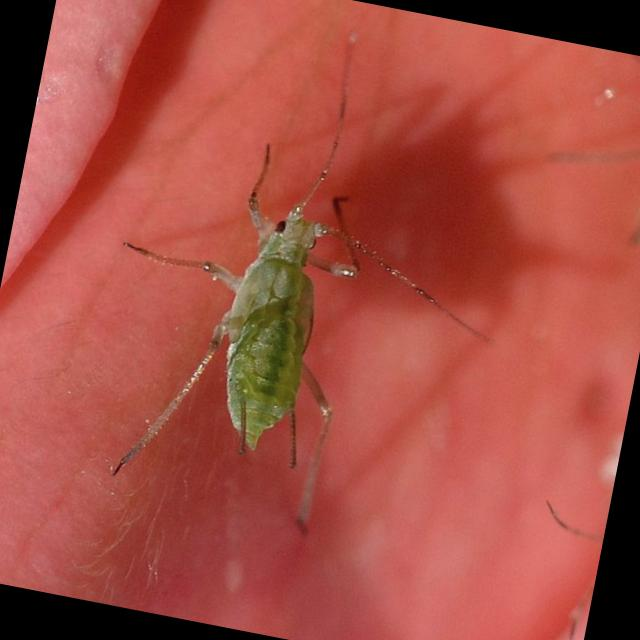Aphids: (96, 121, 446, 548)
